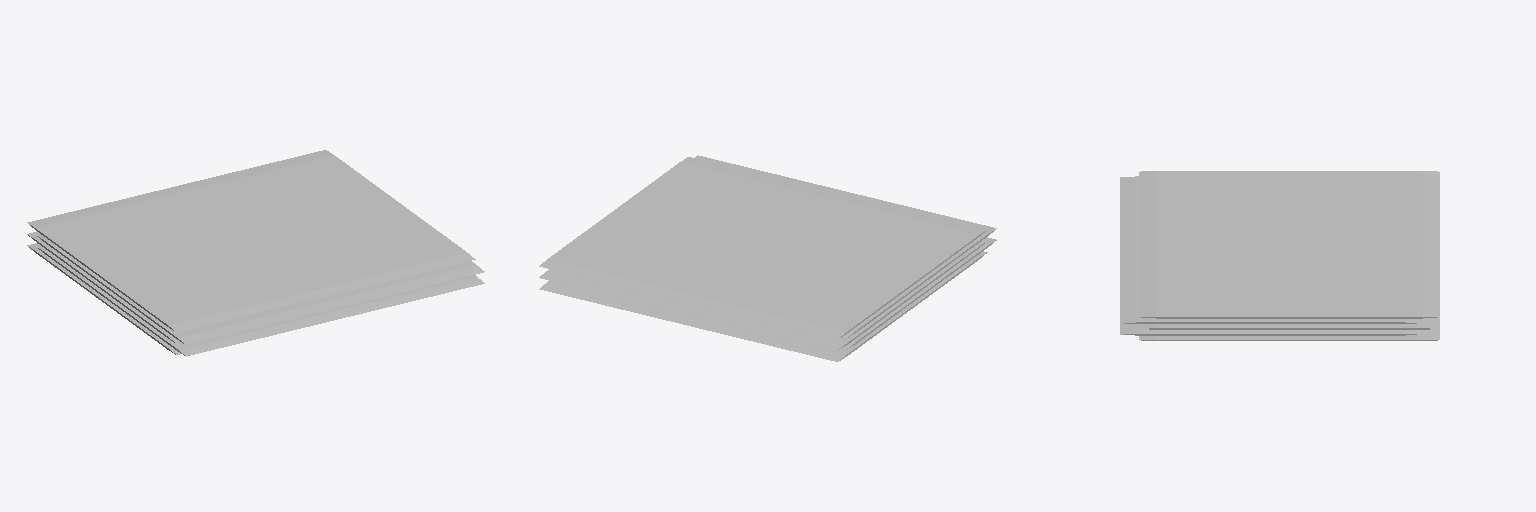
Rendered from PaperStack.obj.
The picture shows the model from 3 angles: view 1: azimuth 30°, elevation 25°; view 2: azimuth 150°, elevation 25°; view 3: azimuth 270°, elevation 25°; orthographic projection.
Visible parts, largest first — view 1: wall_straight_31, wall_straight_29, wall_straight_30, wall_straight_32, wall_straight_28; view 2: wall_straight_31, wall_straight_28, wall_straight_32, wall_straight_29, wall_straight_30; view 3: wall_straight_31, wall_straight_29, wall_straight_30, wall_straight_28, wall_straight_32.
Boxes of the visible parts, x1,y1,x2,y2 form: wall_straight_31: [27, 150, 475, 331]; wall_straight_29: [36, 234, 484, 344]; wall_straight_30: [37, 246, 484, 356]; wall_straight_32: [27, 243, 180, 354]; wall_straight_28: [27, 232, 181, 343]; wall_straight_31: [539, 157, 987, 338]; wall_straight_28: [539, 240, 986, 350]; wall_straight_32: [539, 251, 987, 361]; wall_straight_29: [695, 155, 996, 337]; wall_straight_30: [842, 237, 996, 349]; wall_straight_31: [1139, 171, 1439, 318]; wall_straight_29: [1120, 176, 1420, 323]; wall_straight_30: [1120, 323, 1420, 335]; wall_straight_28: [1139, 318, 1439, 329]; wall_straight_32: [1139, 329, 1439, 340].
Bounding box in the file's own units: 11 × 0.8625 × 10.16.